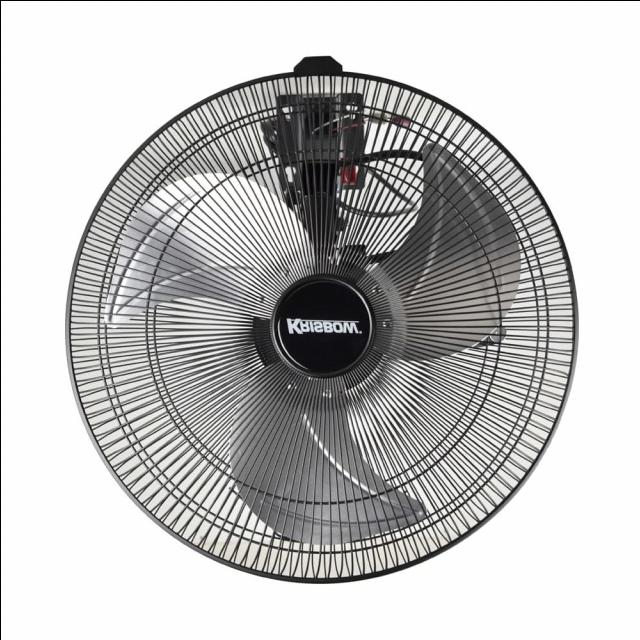fan: (43, 54, 585, 586)
